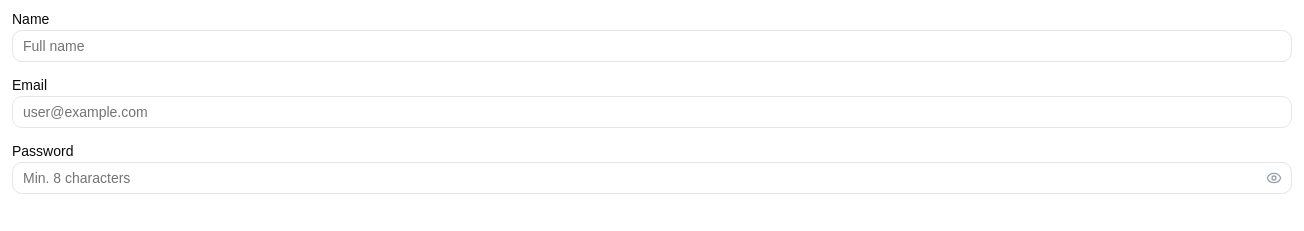
Test: UserForm › name validation › clears the error once 3 or more characters are present
This screenshot has width=1304, height=231.
Type "ab" into the field labelled "Name" at (652, 46), box [12,30,1292,62]
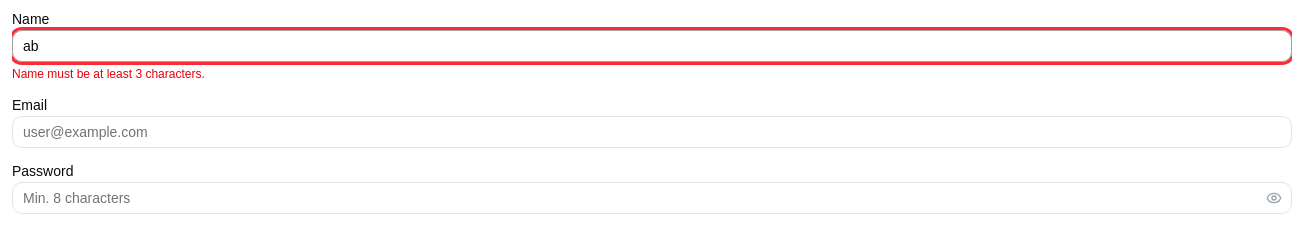
Expected: the text "Name must be at least 3 characters." is shown, [12,67,205,81]
Type "c" into the field labelled "Name" at (652, 46), box [12,30,1292,62]
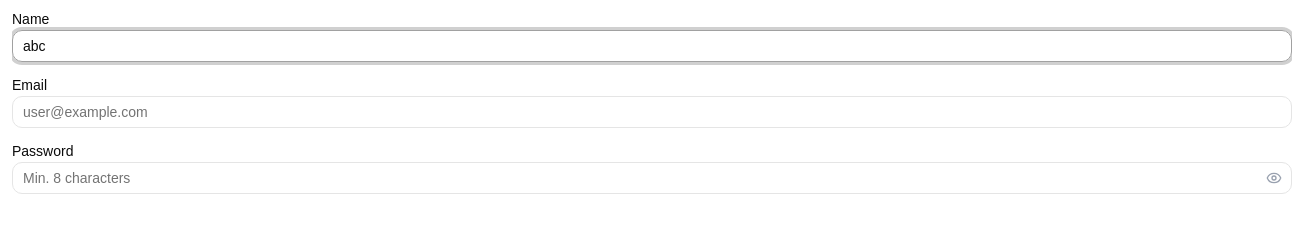
Expected: the text "at least 3 characters" is gone
